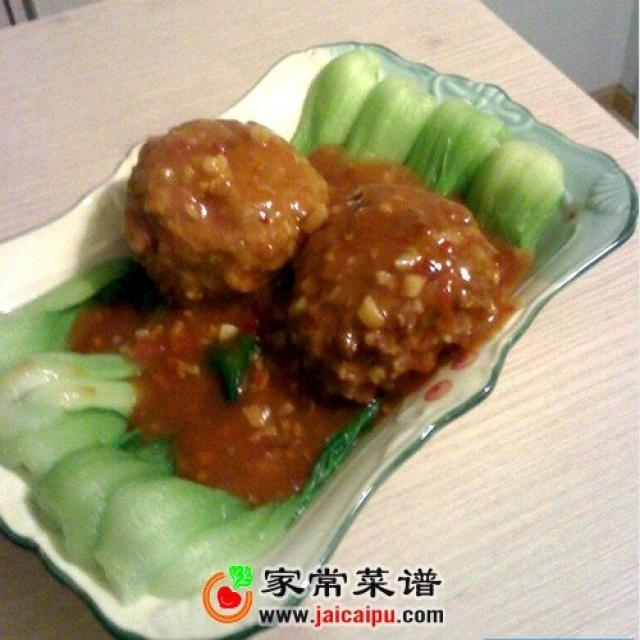Meatball: (282, 163, 508, 417), (97, 97, 329, 317)
